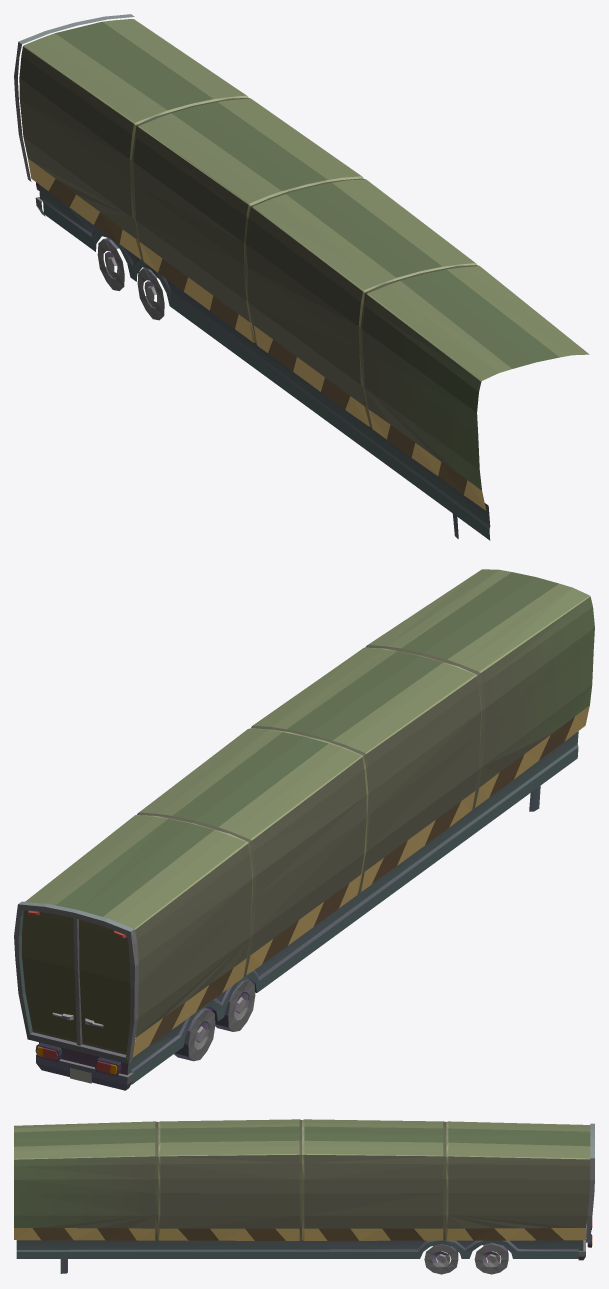
File: hank1_double8_truckTrailor01.glb
The picture shows the model from 3 angles, top to bottom: view 1: azimuth 30°, elevation 25°; view 2: azimuth 150°, elevation 25°; view 3: azimuth 270°, elevation 25°; orthographic projection. The views are drawn at different scales.
Parts seen in each view (by area): view 1: hank1_double8_truckTrailor01; view 2: hank1_double8_truckTrailor01; view 3: hank1_double8_truckTrailor01.
Part boxes in pixels (box(x1,y1,x2,y2)): hank1_double8_truckTrailor01: box(14, 14, 589, 540); hank1_double8_truckTrailor01: box(14, 569, 594, 1090); hank1_double8_truckTrailor01: box(14, 1119, 594, 1274).
Bounding box in the file's own units: 1.2 × 1.89 × 7.79.
